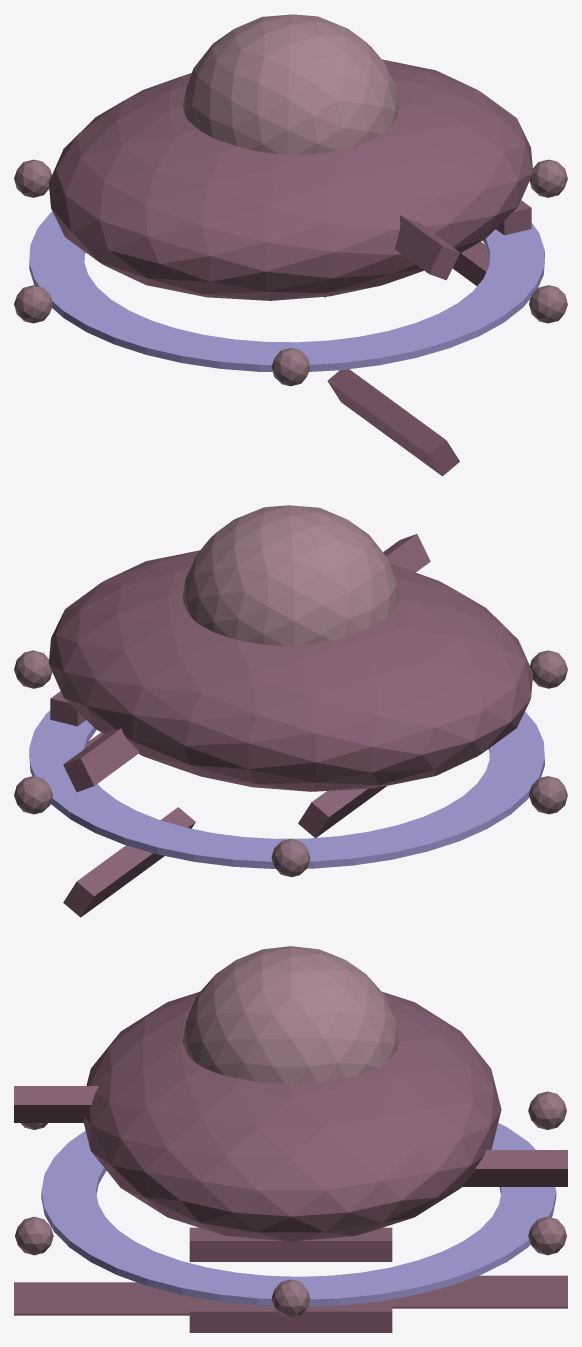
The model's file is zglengo_creep_tumor.glb.
3 renders of one model, top to bottom at view 1: azimuth 30°, elevation 25°; view 2: azimuth 150°, elevation 25°; view 3: azimuth 270°, elevation 25°, orthographic.
Parts seen in each view (by area): view 1: tumor_base, world, creep_ring, tendril_2, tendril_1, tip_1, tip_2, tip_3, tip_0, tip_4, tendril_3, tendril_0; view 2: tumor_base, world, creep_ring, tendril_5, tendril_4, tendril_2, tip_3, tip_5, tip_4, tip_0, tendril_1, tip_2 (+1 smaller); view 3: tumor_base, world, creep_ring, tendril_3, tendril_2, tendril_0, tendril_5, tendril_4, tendril_1, tip_0, tip_4, tip_1 (+1 smaller).
Boxes of the visible parts, x1,y1,x2,y2 form: tumor_base: [48, 59, 533, 300]; world: [182, 14, 399, 154]; creep_ring: [29, 211, 544, 371]; tendril_2: [327, 369, 459, 476]; tendril_1: [395, 215, 459, 280]; tip_1: [529, 285, 567, 323]; tip_2: [271, 348, 310, 386]; tip_3: [14, 285, 52, 323]; tip_0: [529, 159, 567, 197]; tip_4: [14, 159, 51, 197]; tendril_3: [452, 241, 530, 300]; tendril_0: [496, 200, 531, 235]; tumor_base: [48, 550, 533, 791]; world: [182, 505, 399, 645]; creep_ring: [29, 710, 544, 868]; tendril_5: [63, 807, 195, 917]; tendril_4: [63, 728, 139, 792]; tendril_2: [298, 786, 386, 837]; tip_3: [529, 776, 567, 814]; tip_5: [14, 776, 52, 814]; tip_4: [271, 839, 310, 877]; tip_0: [14, 650, 52, 688]; tendril_1: [383, 534, 430, 572]; tip_2: [530, 650, 567, 688]; tumor_base: [83, 991, 501, 1241]; world: [182, 946, 399, 1083]; creep_ring: [41, 1123, 556, 1306]; tendril_3: [189, 1298, 392, 1332]; tendril_2: [14, 1282, 199, 1315]; tendril_0: [189, 1227, 392, 1261]; tendril_5: [392, 1275, 567, 1308]; tendril_4: [462, 1150, 567, 1186]; tendril_1: [14, 1086, 98, 1122]; tip_0: [271, 1279, 310, 1317]; tip_4: [528, 1091, 566, 1129]; tip_1: [15, 1216, 53, 1255].
Bounding box in the file's own units: 1.62 × 0.9968 × 1.42.
